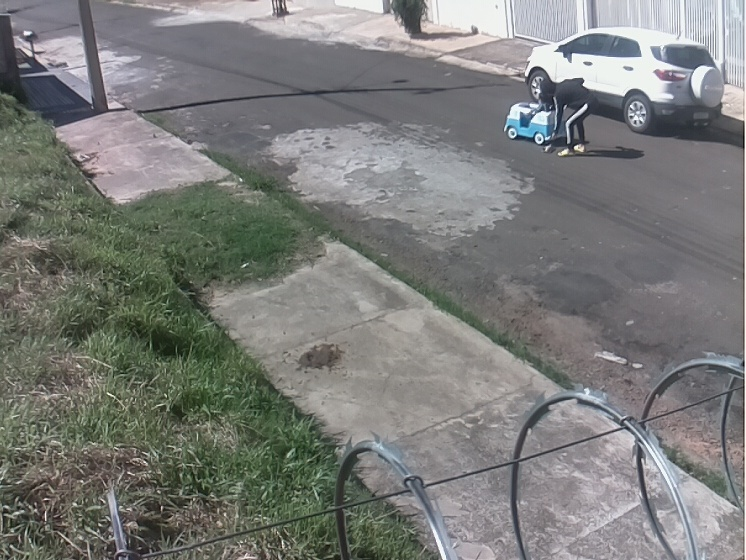person: (536, 76, 598, 157)
